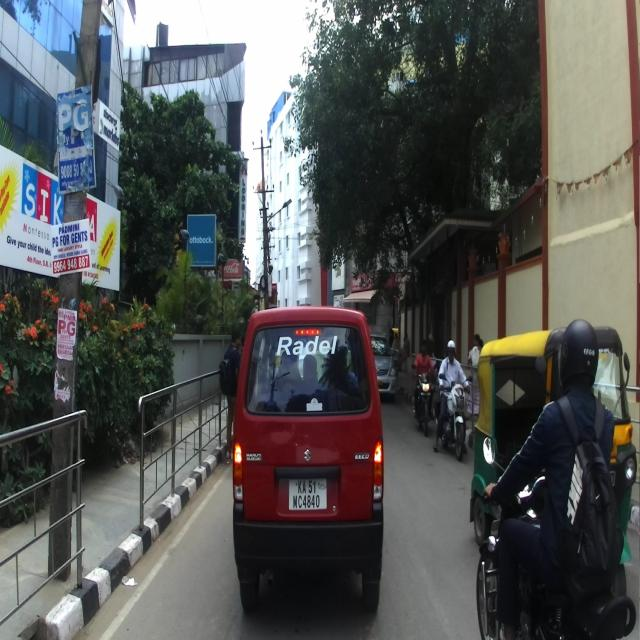autorickshaw: (470, 325, 634, 606)
car: (232, 305, 384, 616)
motorcycle: (476, 436, 638, 640), (434, 371, 474, 457), (409, 361, 439, 436)
